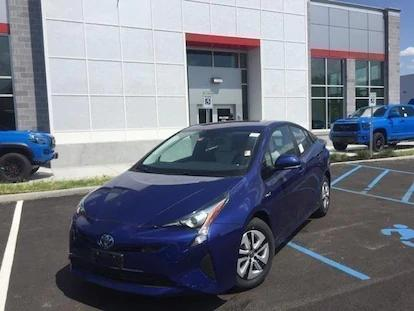Toyota Prius: (67, 121, 332, 299)
